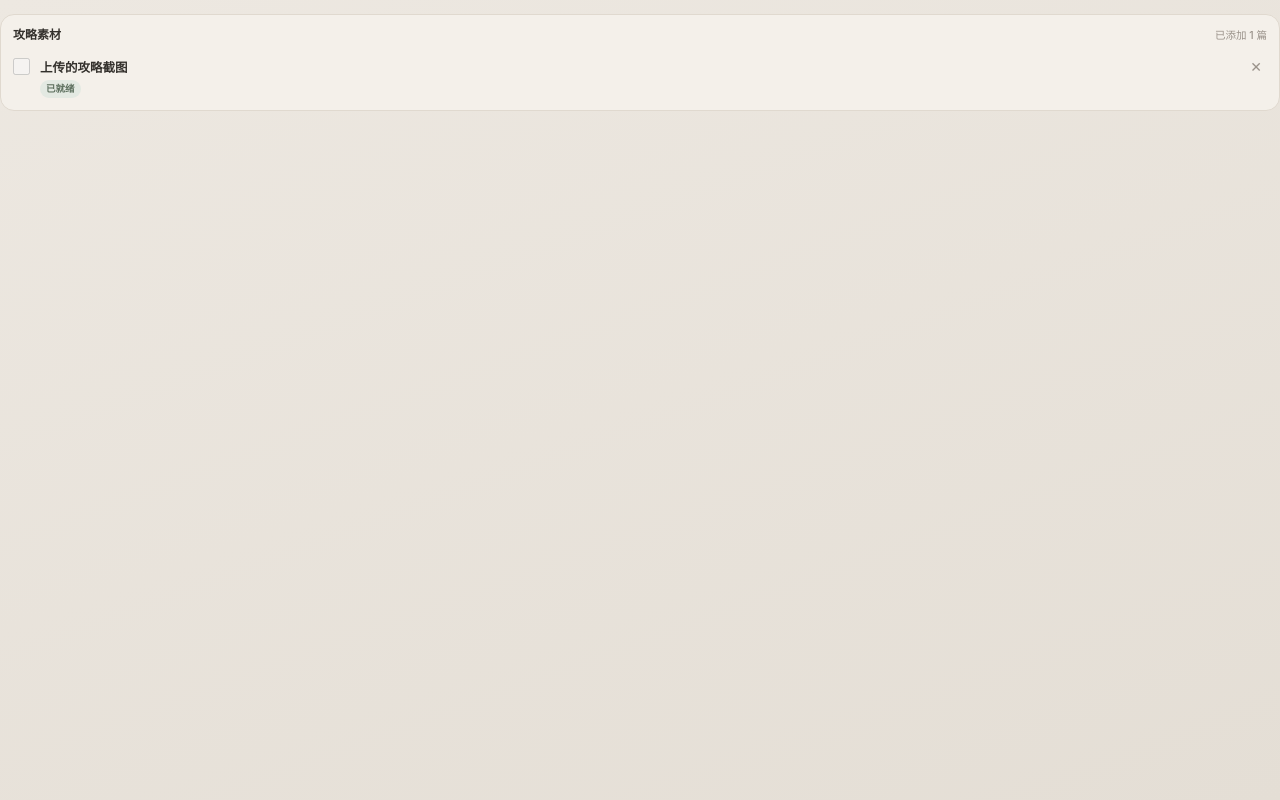
Test: GuideSourceList 删除二次确认（任务 188） › 上传截图：无标题时用短标签兜底，不展示超长正文
Click the button named "移除该攻略": {"x": 1256, "y": 67} [1245,57,1267,77]
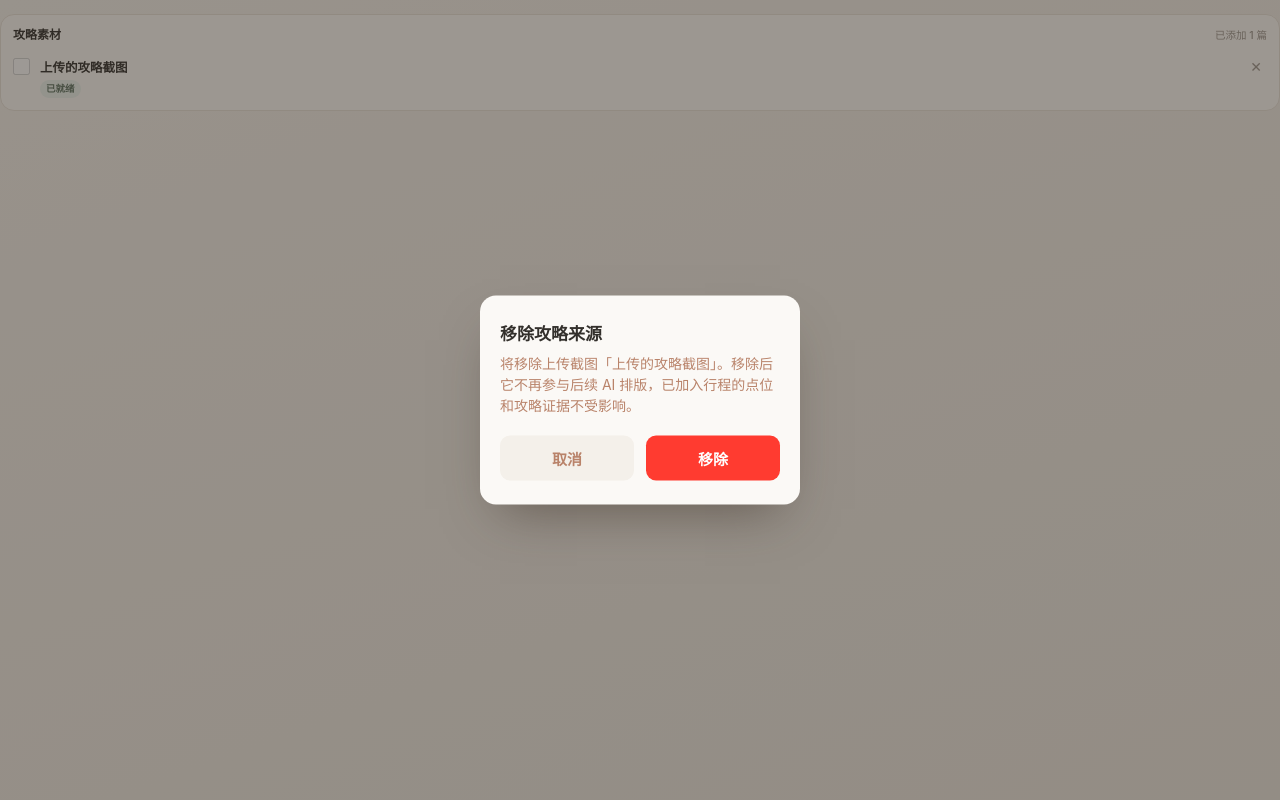
Check: the text "将移除上传截图「上传的攻略截图」。移除后它不再参与后续 AI 排版，已加入行程的点位和攻略证据不受影响。" is shown, box [500,352,780,416]
